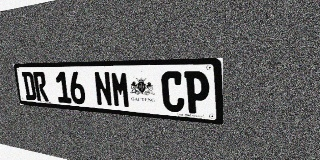1: (54, 72, 72, 103)
6: (68, 72, 86, 105)
C: (161, 71, 185, 113)
D: (21, 72, 37, 101)
M: (110, 71, 131, 108)
N: (93, 71, 113, 107)
P: (184, 71, 210, 115)
R: (33, 72, 49, 102)
